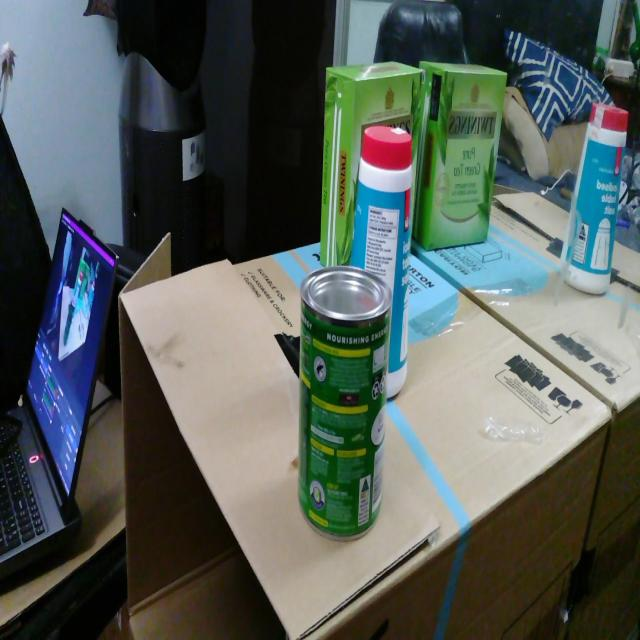nestle_milo_tin: (298, 266, 393, 540)
twinings_greentea_box: (320, 62, 423, 267)
woolworths_salt_bottle: (350, 125, 412, 399)
